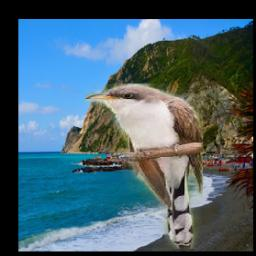Cuckoo: (85, 84, 203, 249)
